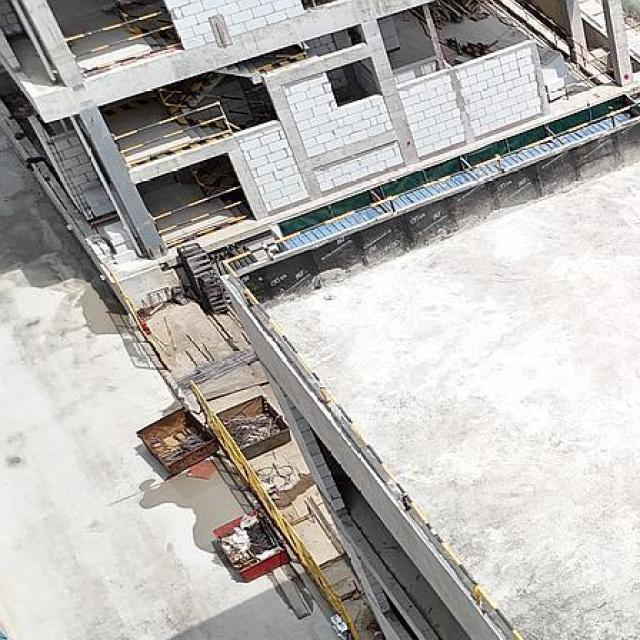edge_guardrail: (221, 100, 640, 640), (508, 0, 614, 104), (114, 100, 234, 167), (66, 8, 183, 76), (151, 185, 248, 249)
